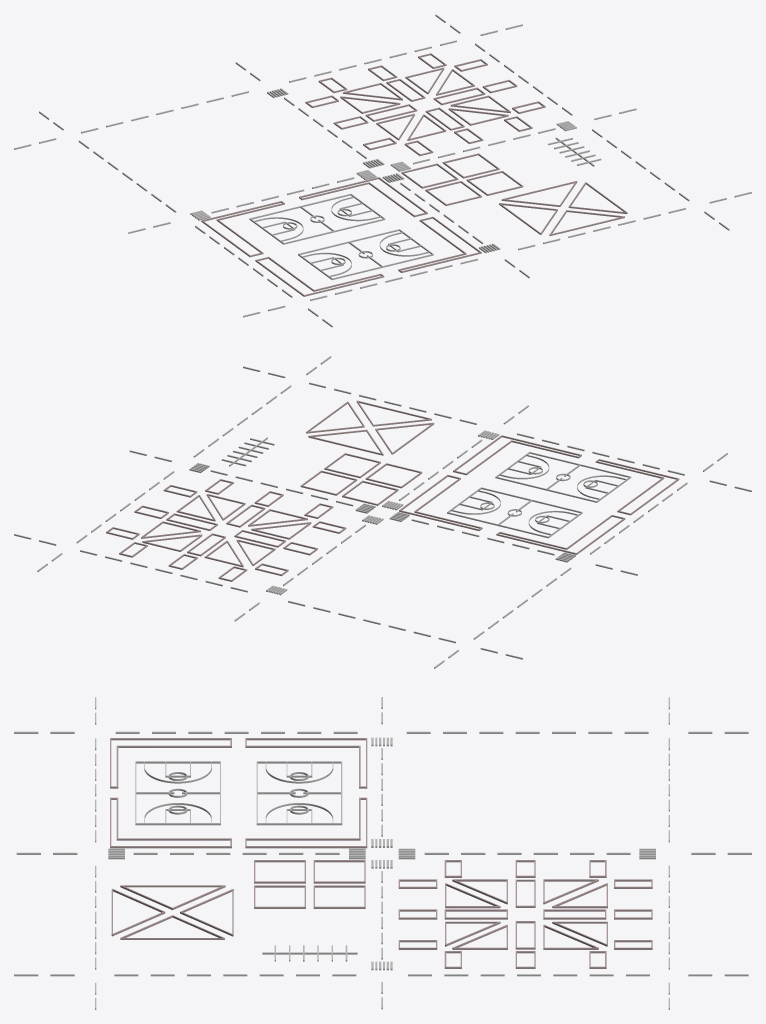
File: EnvNoColliders.fbx
3 renders of one model, top to bottom at view 1: azimuth 30°, elevation 25°; view 2: azimuth 150°, elevation 25°; view 3: azimuth 270°, elevation 25°, orthographic. The views are drawn at different scales.
Parts seen in each view (by area): view 1: crosswalk, basketball_lines; view 2: crosswalk, basketball_lines; view 3: crosswalk, basketball_lines.
Part boxes in pixels (x1=…): crosswalk: x1=14, y1=14, x2=751, y2=327; basketball_lines: x1=249, y1=193, x2=433, y2=280; crosswalk: x1=14, y1=356, x2=751, y2=668; basketball_lines: x1=447, y1=452, x2=631, y2=538; crosswalk: x1=14, y1=697, x2=751, y2=1009; basketball_lines: x1=135, y1=761, x2=342, y2=825.
Bounding box in the file's own units: 1975 × 5 × 1980.
